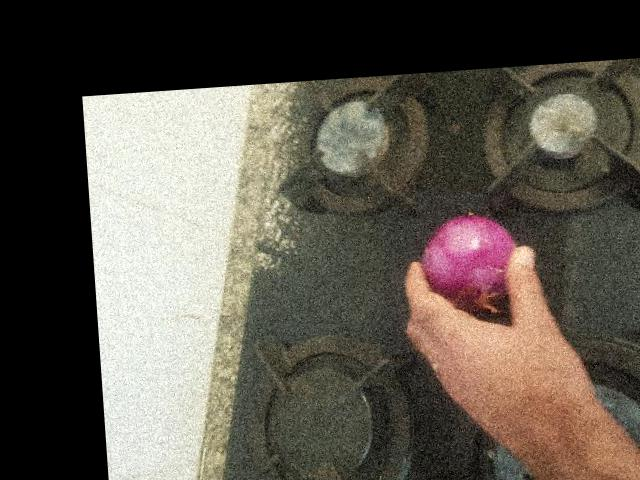onion: (233, 137, 328, 232)
